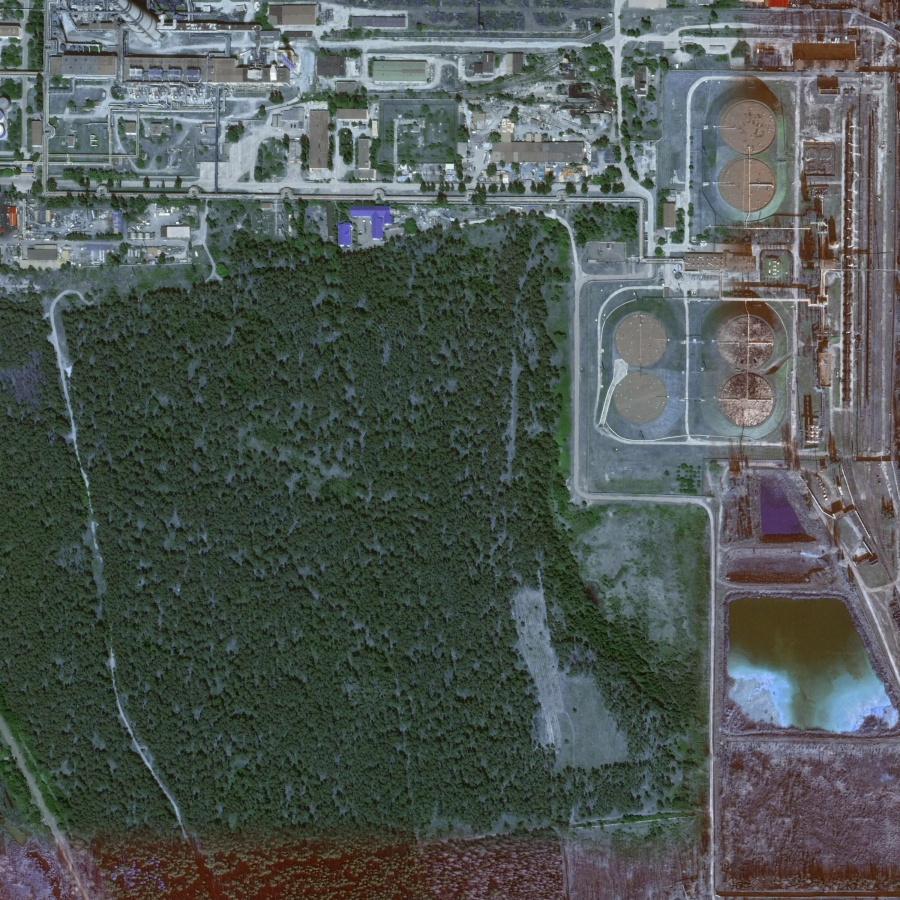PowerPlant: (574, 88, 822, 452)
